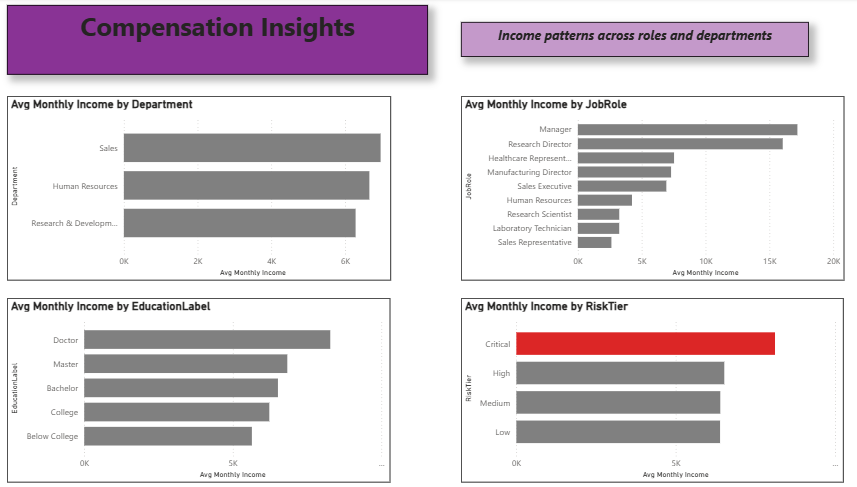

Layout of this report page (visuals, bound fields, positions):
{"tool":"powerbi","page":{"name":"Compensation","canvas":[1280,720],"ordinal":2},"visuals":[{"type":"textbox","box":[23.4,10.2,616.1,102.4],"z":0},{"type":"textbox","box":[687.8,35.1,509.3,51.2],"z":1000},{"type":"clusteredBarChart","fields":{"Category":["hr_attrition_cleaned.Department"],"Y":["hr_attrition_cleaned.Avg Monthly Income"]},"box":[23.4,143.4,562,270],"z":2000},{"type":"barChart","fields":{"Category":["hr_attrition_cleaned.JobRole"],"Y":["hr_attrition_cleaned.Avg Monthly Income"]},"box":[687.8,143.4,561,270],"z":3000},{"type":"barChart","fields":{"Category":["hr_attrition_cleaned.EducationLabel"],"Y":["hr_attrition_cleaned.Avg Monthly Income"]},"box":[23.4,439,561,270],"z":4000},{"type":"barChart","fields":{"Category":["hr_attrition_cleaned.RiskTier"],"Y":["hr_attrition_cleaned.Avg Monthly Income"]},"box":[687.8,439,560.5,270],"z":5000}]}

Visuals, with their boxes in screenshot pixels (x1, y1, x2, y2), scaled from the page's 1280x720 canvas onto the 857x487 screenshot:
textbox: detection(16, 7, 428, 76)
textbox: detection(461, 24, 801, 58)
clusteredBarChart - hr_attrition_cleaned.Department x hr_attrition_cleaned.Avg Monthly Income: detection(16, 97, 392, 280)
barChart - hr_attrition_cleaned.JobRole x hr_attrition_cleaned.Avg Monthly Income: detection(461, 97, 836, 280)
barChart - hr_attrition_cleaned.EducationLabel x hr_attrition_cleaned.Avg Monthly Income: detection(16, 297, 391, 480)
barChart - hr_attrition_cleaned.RiskTier x hr_attrition_cleaned.Avg Monthly Income: detection(461, 297, 836, 480)
